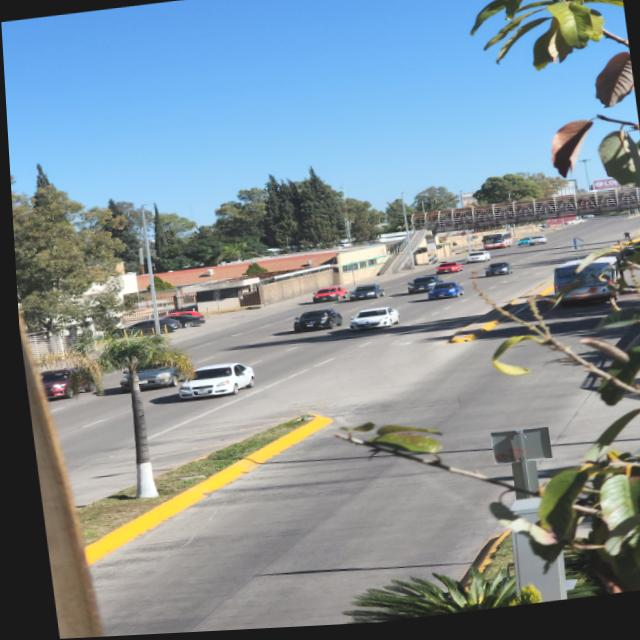Auto: (173, 362, 252, 403), (114, 362, 174, 394), (345, 308, 397, 335), (122, 314, 176, 340), (286, 308, 337, 335), (36, 369, 72, 404), (162, 309, 203, 330), (401, 277, 441, 298), (307, 286, 346, 307), (423, 283, 459, 304), (346, 286, 379, 305), (479, 266, 509, 282), (433, 266, 461, 281), (464, 257, 487, 268)
